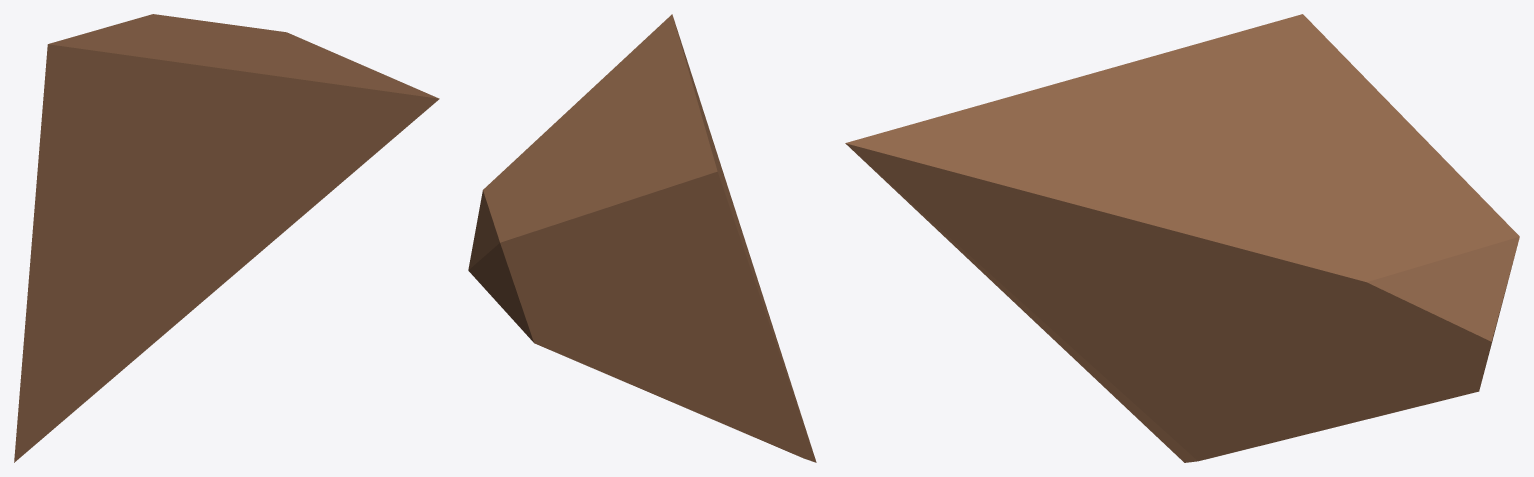
Rendered from WoodCellCube_003_cell_010.fbx.
The picture shows the model from 3 angles, left to right: view 1: azimuth 30°, elevation 25°; view 2: azimuth 150°, elevation 25°; view 3: azimuth 270°, elevation 25°; orthographic projection. The views are drawn at different scales.
Parts seen in each view (by area): view 1: WoodCellCube_003_cell_010; view 2: WoodCellCube_003_cell_010; view 3: WoodCellCube_003_cell_010.
Boxes of the visible parts, x1,y1,x2,y2 form: WoodCellCube_003_cell_010: (14,14,439,462); WoodCellCube_003_cell_010: (468,14,816,462); WoodCellCube_003_cell_010: (845,14,1519,462).
Bounding box in the file's own units: 0.1638 × 0.1391 × 0.1294.
Materials: 1 (1 with a texture image).
